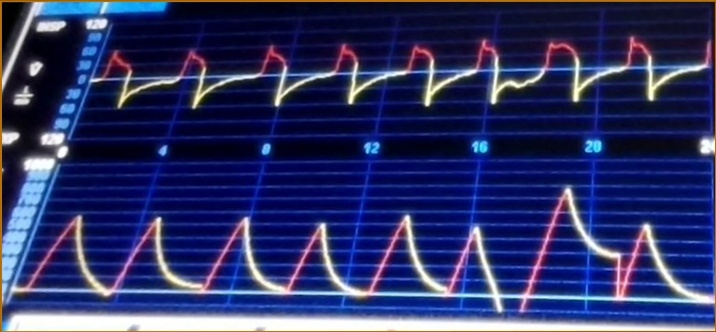Premature_cycling Flow: (99, 30, 710, 129)
Premature_cycling Volume: (43, 181, 711, 313)
